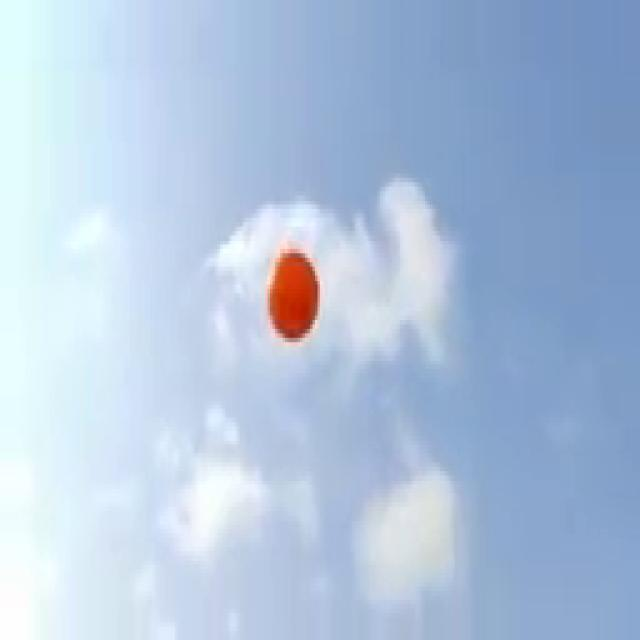red: (265, 238, 320, 343)
